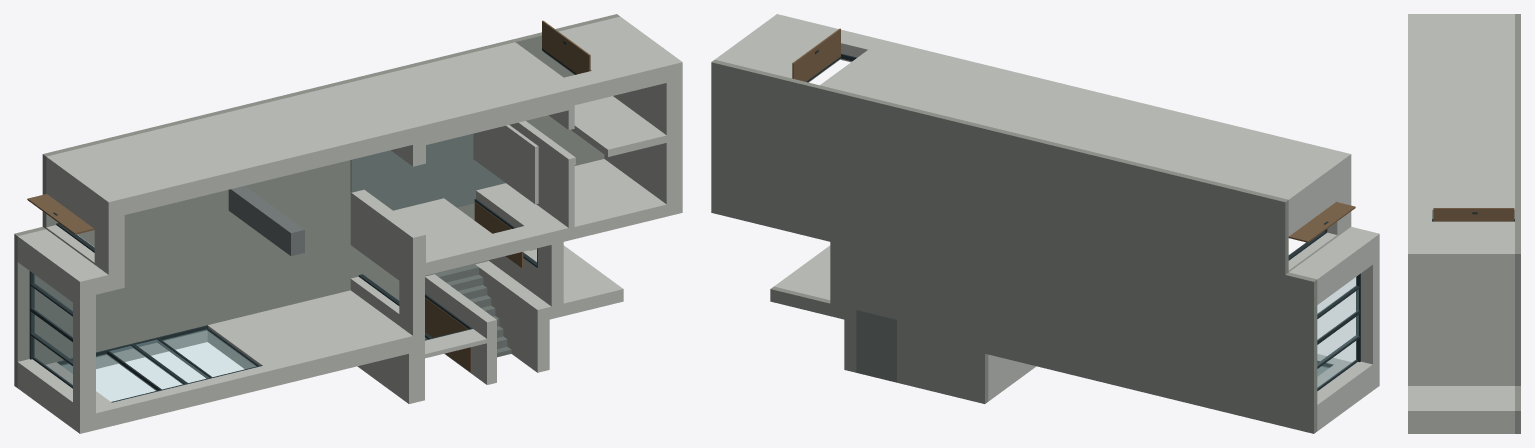
The model's file is WESS_Plus_Space.obj.
The picture shows the model from 3 angles, left to right: view 1: azimuth 30°, elevation 25°; view 2: azimuth 150°, elevation 25°; view 3: azimuth 270°, elevation 25°; orthographic projection. The views are drawn at different scales.
Parts seen in each view (by area): view 1: Walls_PDF_Outline_With_Assumed_Heads, Floor_Slab_150mm_Assumed, Floor_Central_Plus30mm_Assumed, Partition_85x1370_Height_Assumed, Column_350x550, Window_Glass_01, Window_Glass_00, Stair_Partial_9_Treads_Rise_Assumed, D04_North_Leaf_Open90, D05_Lower_Lobby_Leaf_Open90, Window_Glass_03, Window_Glass_02 (+6 smaller); view 2: Floor_Slab_150mm_Assumed, Walls_PDF_Outline_With_Assumed_Heads, Stair_Partial_9_Treads_Rise_Assumed, D04_North_Leaf_Open90, D01_West_Leaf_Open90, Window_Glass_06, Window_Glass_07, Window_Glass_05; view 3: Walls_PDF_Outline_With_Assumed_Heads, Floor_Slab_150mm_Assumed, D04_North_Leaf_Open90.
Part boxes in pixels (box(x1,y1,x2,y2)): Walls_PDF_Outline_With_Assumed_Heads: box(17, 16, 682, 433); Floor_Slab_150mm_Assumed: box(14, 14, 619, 387); Floor_Central_Plus30mm_Assumed: box(350, 133, 505, 210); Partition_85x1370_Height_Assumed: box(473, 125, 538, 204); Column_350x550: box(228, 186, 304, 255); Window_Glass_01: box(162, 329, 256, 376); Window_Glass_00: box(61, 354, 156, 401); Stair_Partial_9_Treads_Rise_Assumed: box(435, 264, 511, 357); D04_North_Leaf_Open90: box(542, 20, 590, 74); D05_Lower_Lobby_Leaf_Open90: box(425, 297, 471, 372); Window_Glass_03: box(136, 339, 209, 382); Window_Glass_02: box(110, 346, 182, 389); Floor_Slab_150mm_Assumed: box(711, 59, 1317, 433); Walls_PDF_Outline_With_Assumed_Heads: box(715, 14, 1379, 430); Stair_Partial_9_Treads_Rise_Assumed: box(856, 310, 896, 382); D04_North_Leaf_Open90: box(792, 28, 840, 81); D01_West_Leaf_Open90: box(1288, 202, 1355, 242); Window_Glass_06: box(1317, 289, 1358, 340); Window_Glass_07: box(1317, 315, 1358, 365); Window_Glass_05: box(1317, 340, 1356, 388); Walls_PDF_Outline_With_Assumed_Heads: box(1408, 14, 1514, 433); Floor_Slab_150mm_Assumed: box(1515, 14, 1520, 433); D04_North_Leaf_Open90: box(1433, 208, 1514, 221).
Size of the model in its own units: 15.06 by 6.93 by 2.85.
